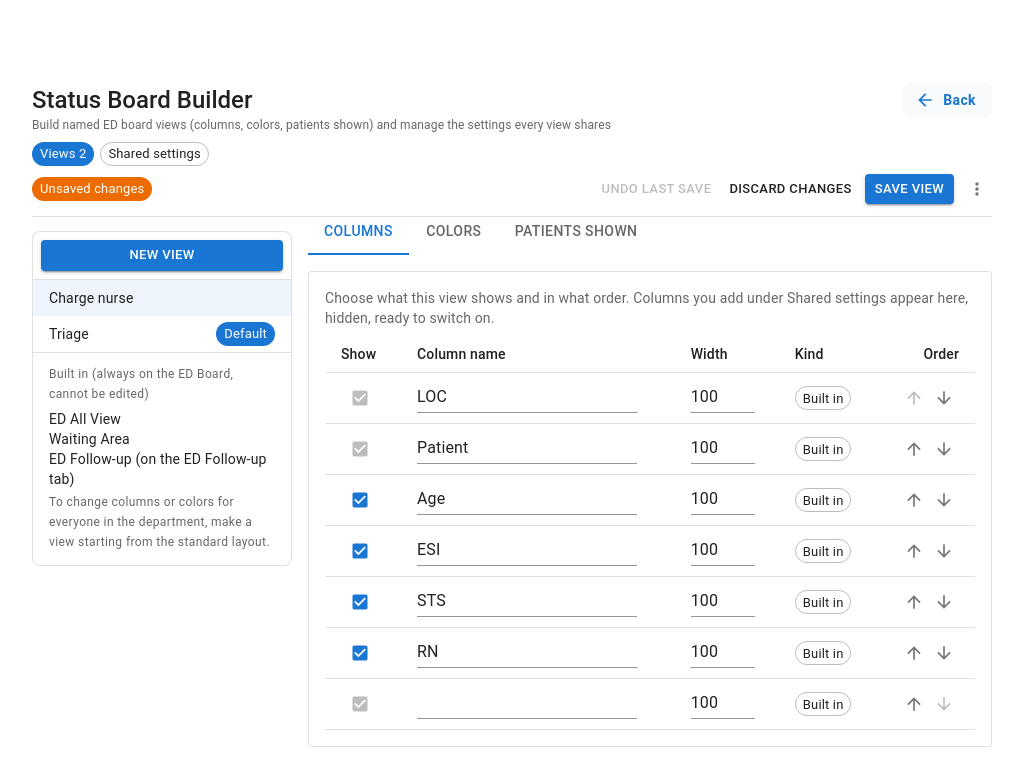
Test: saving a view sends its name and layout together
Earlier steps of the test are not shown.
Step 1. Click the checkbox named "Show Age" → (360, 500), box top-left (350, 490), bottom-right (370, 510)
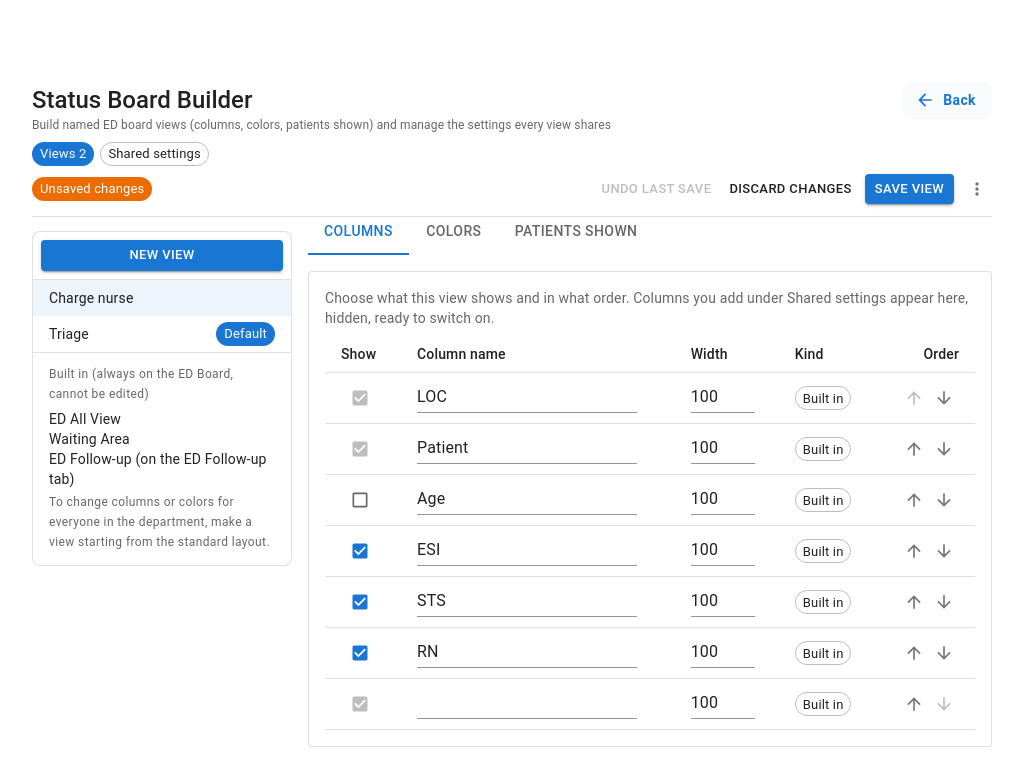
Step 2. Click the button "Save view" → (909, 189), box top-left (865, 174), bottom-right (954, 204)
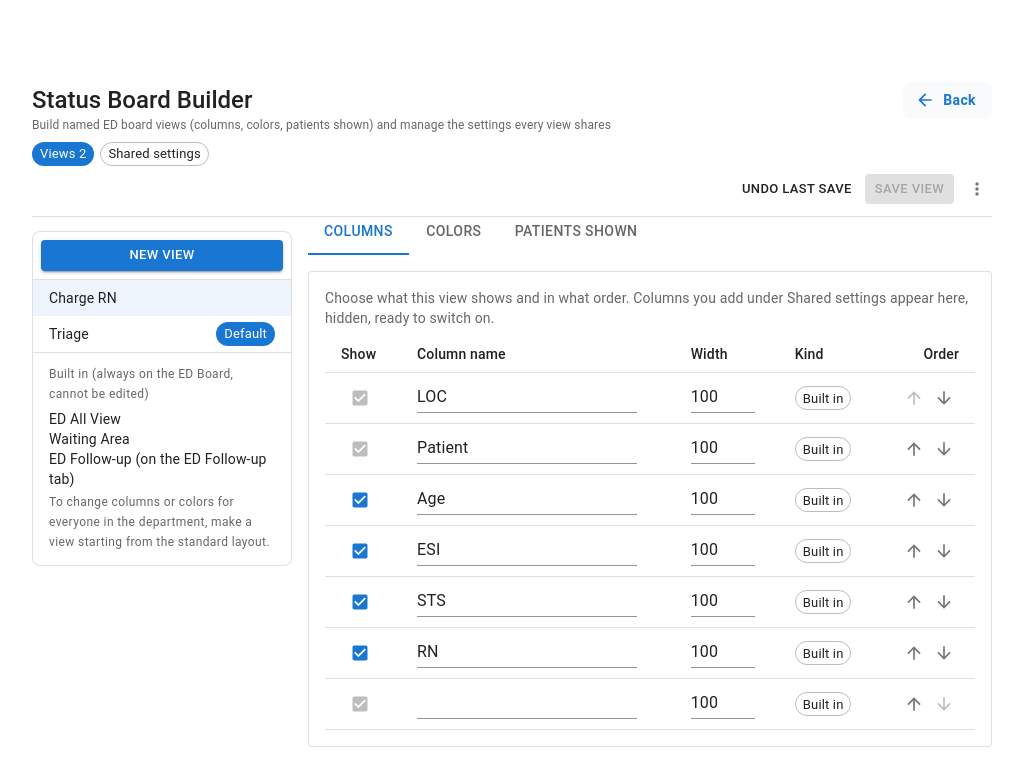
Expected: the text "Charge RN" is shown, top-left (49, 290), bottom-right (117, 306)
Expected: the button "Undo last save" is enabled, top-left (737, 174), bottom-right (857, 204)
Expected: the button with test id "view-item-1" reads "Charge RN", top-left (33, 280), bottom-right (291, 316)
